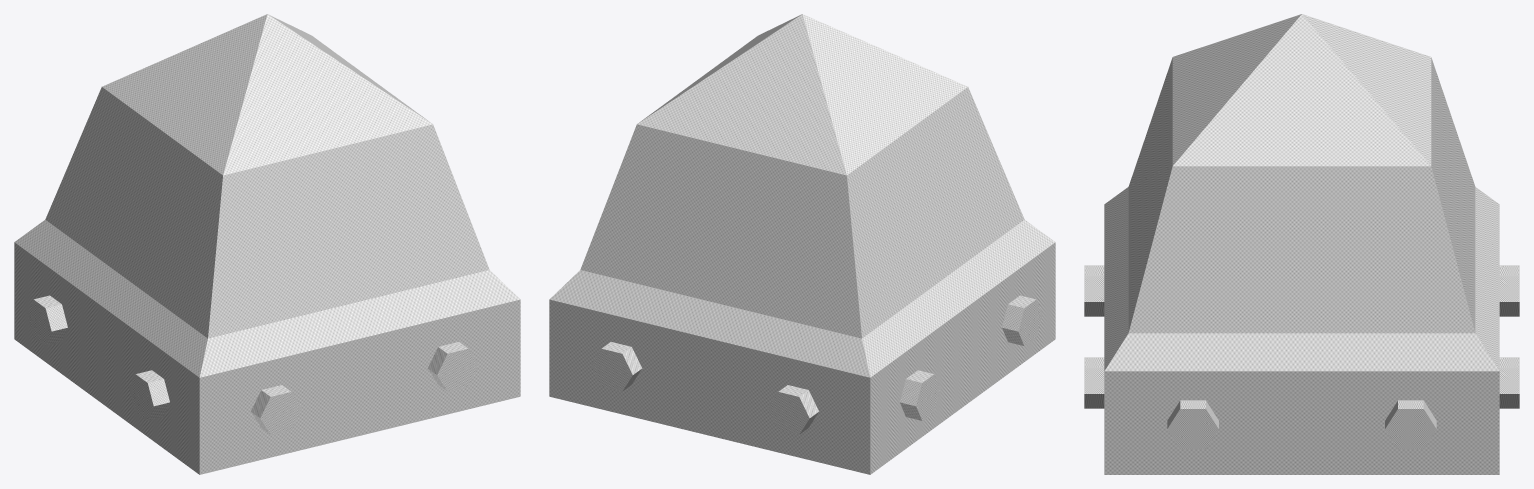
Rendered from Generic_02.dae.
The picture shows the model from 3 angles, left to right: view 1: azimuth 30°, elevation 25°; view 2: azimuth 150°, elevation 25°; view 3: azimuth 270°, elevation 25°; orthographic projection. The views are drawn at different scales.
Parts seen in each view (by area): view 1: Generic_02; view 2: Generic_02; view 3: Generic_02.
Boxes of the visible parts, x1,y1,x2,y2 form: Generic_02: (14,14,520,474); Generic_02: (549,14,1055,474); Generic_02: (1084,14,1519,474).
Bounding box in the file's own units: 2 × 1.91 × 2.
